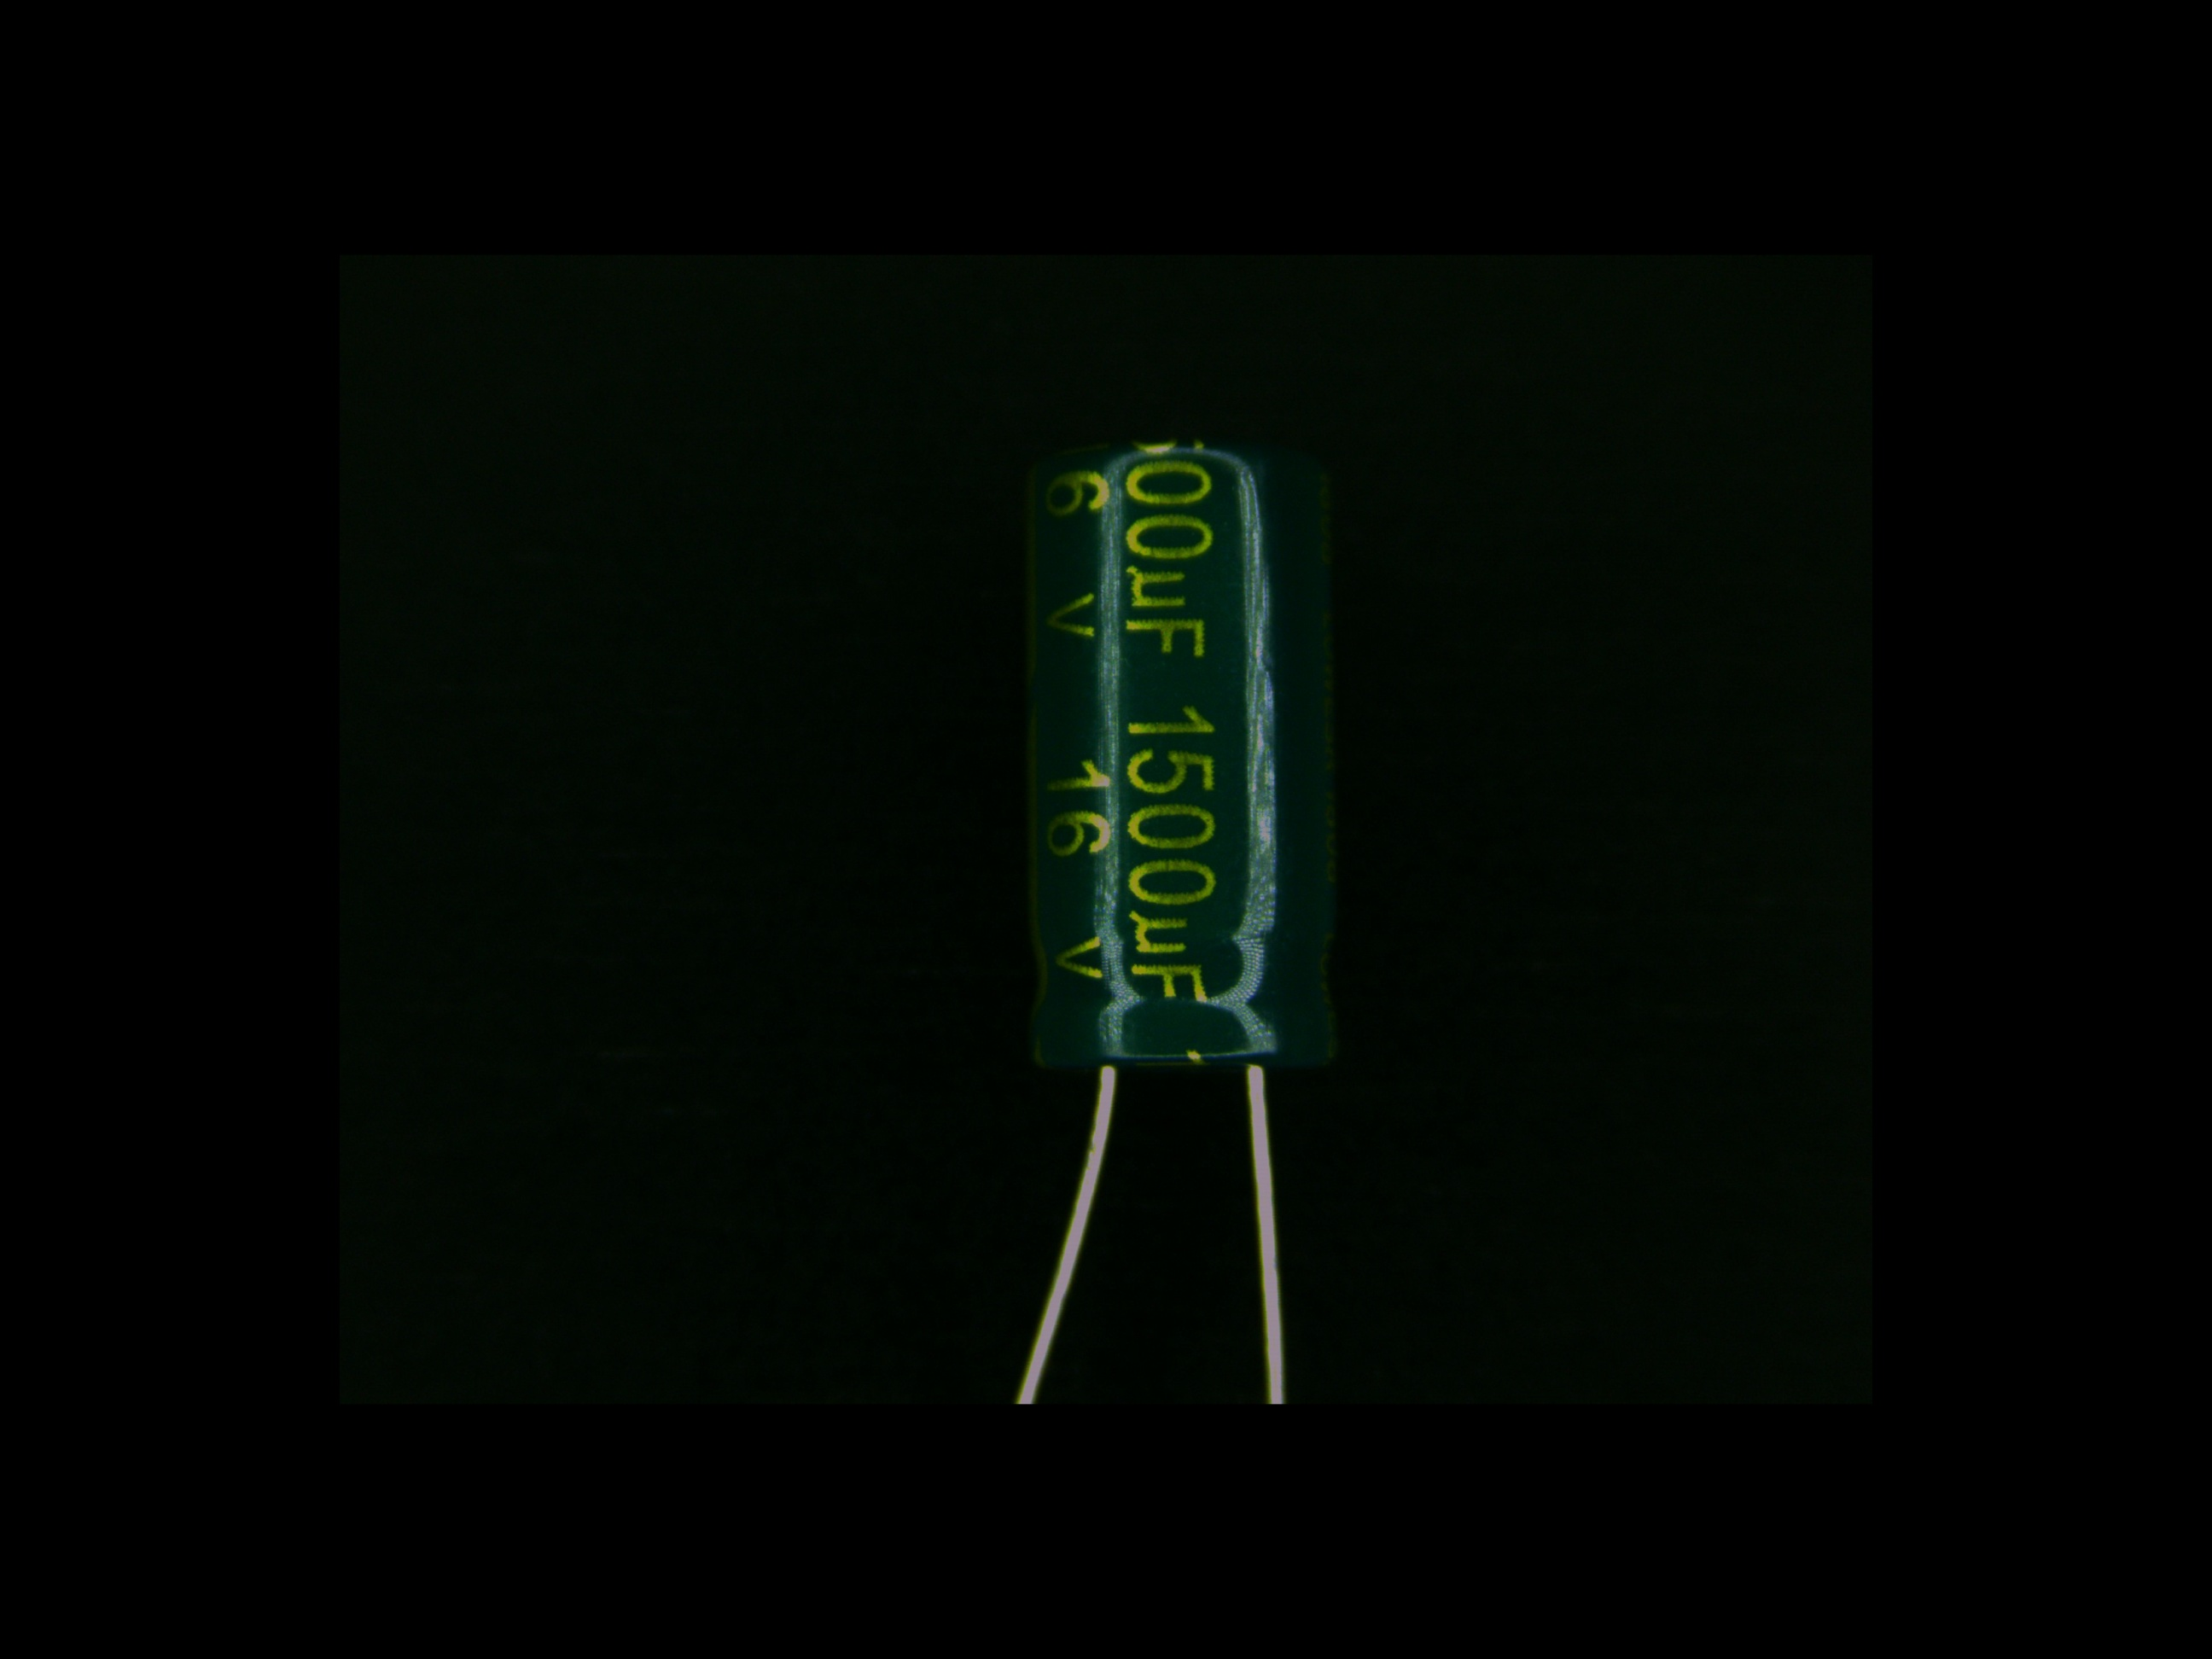c1: (1017, 434, 1346, 1162)
